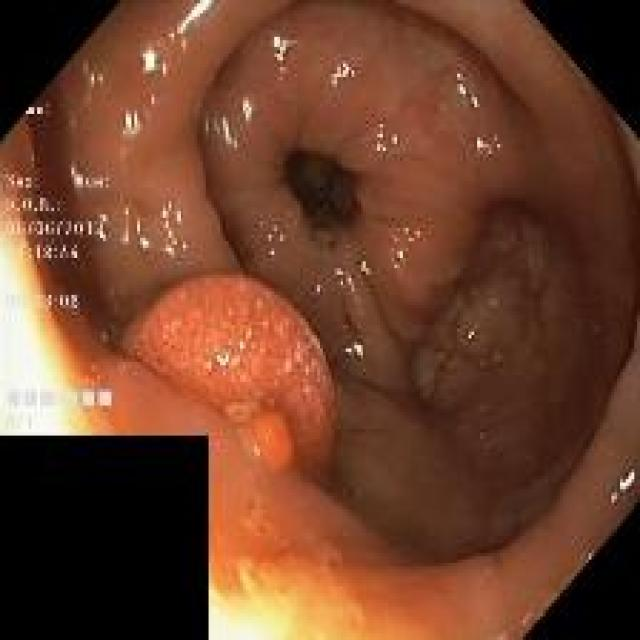Polyps: (125, 274, 335, 481), (250, 410, 292, 473)
